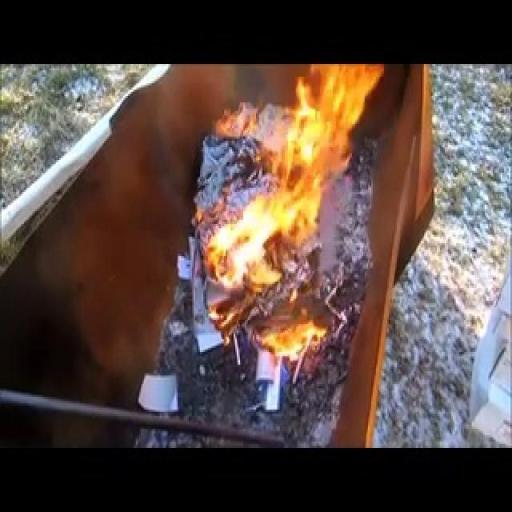smoke: (182, 64, 352, 358)
